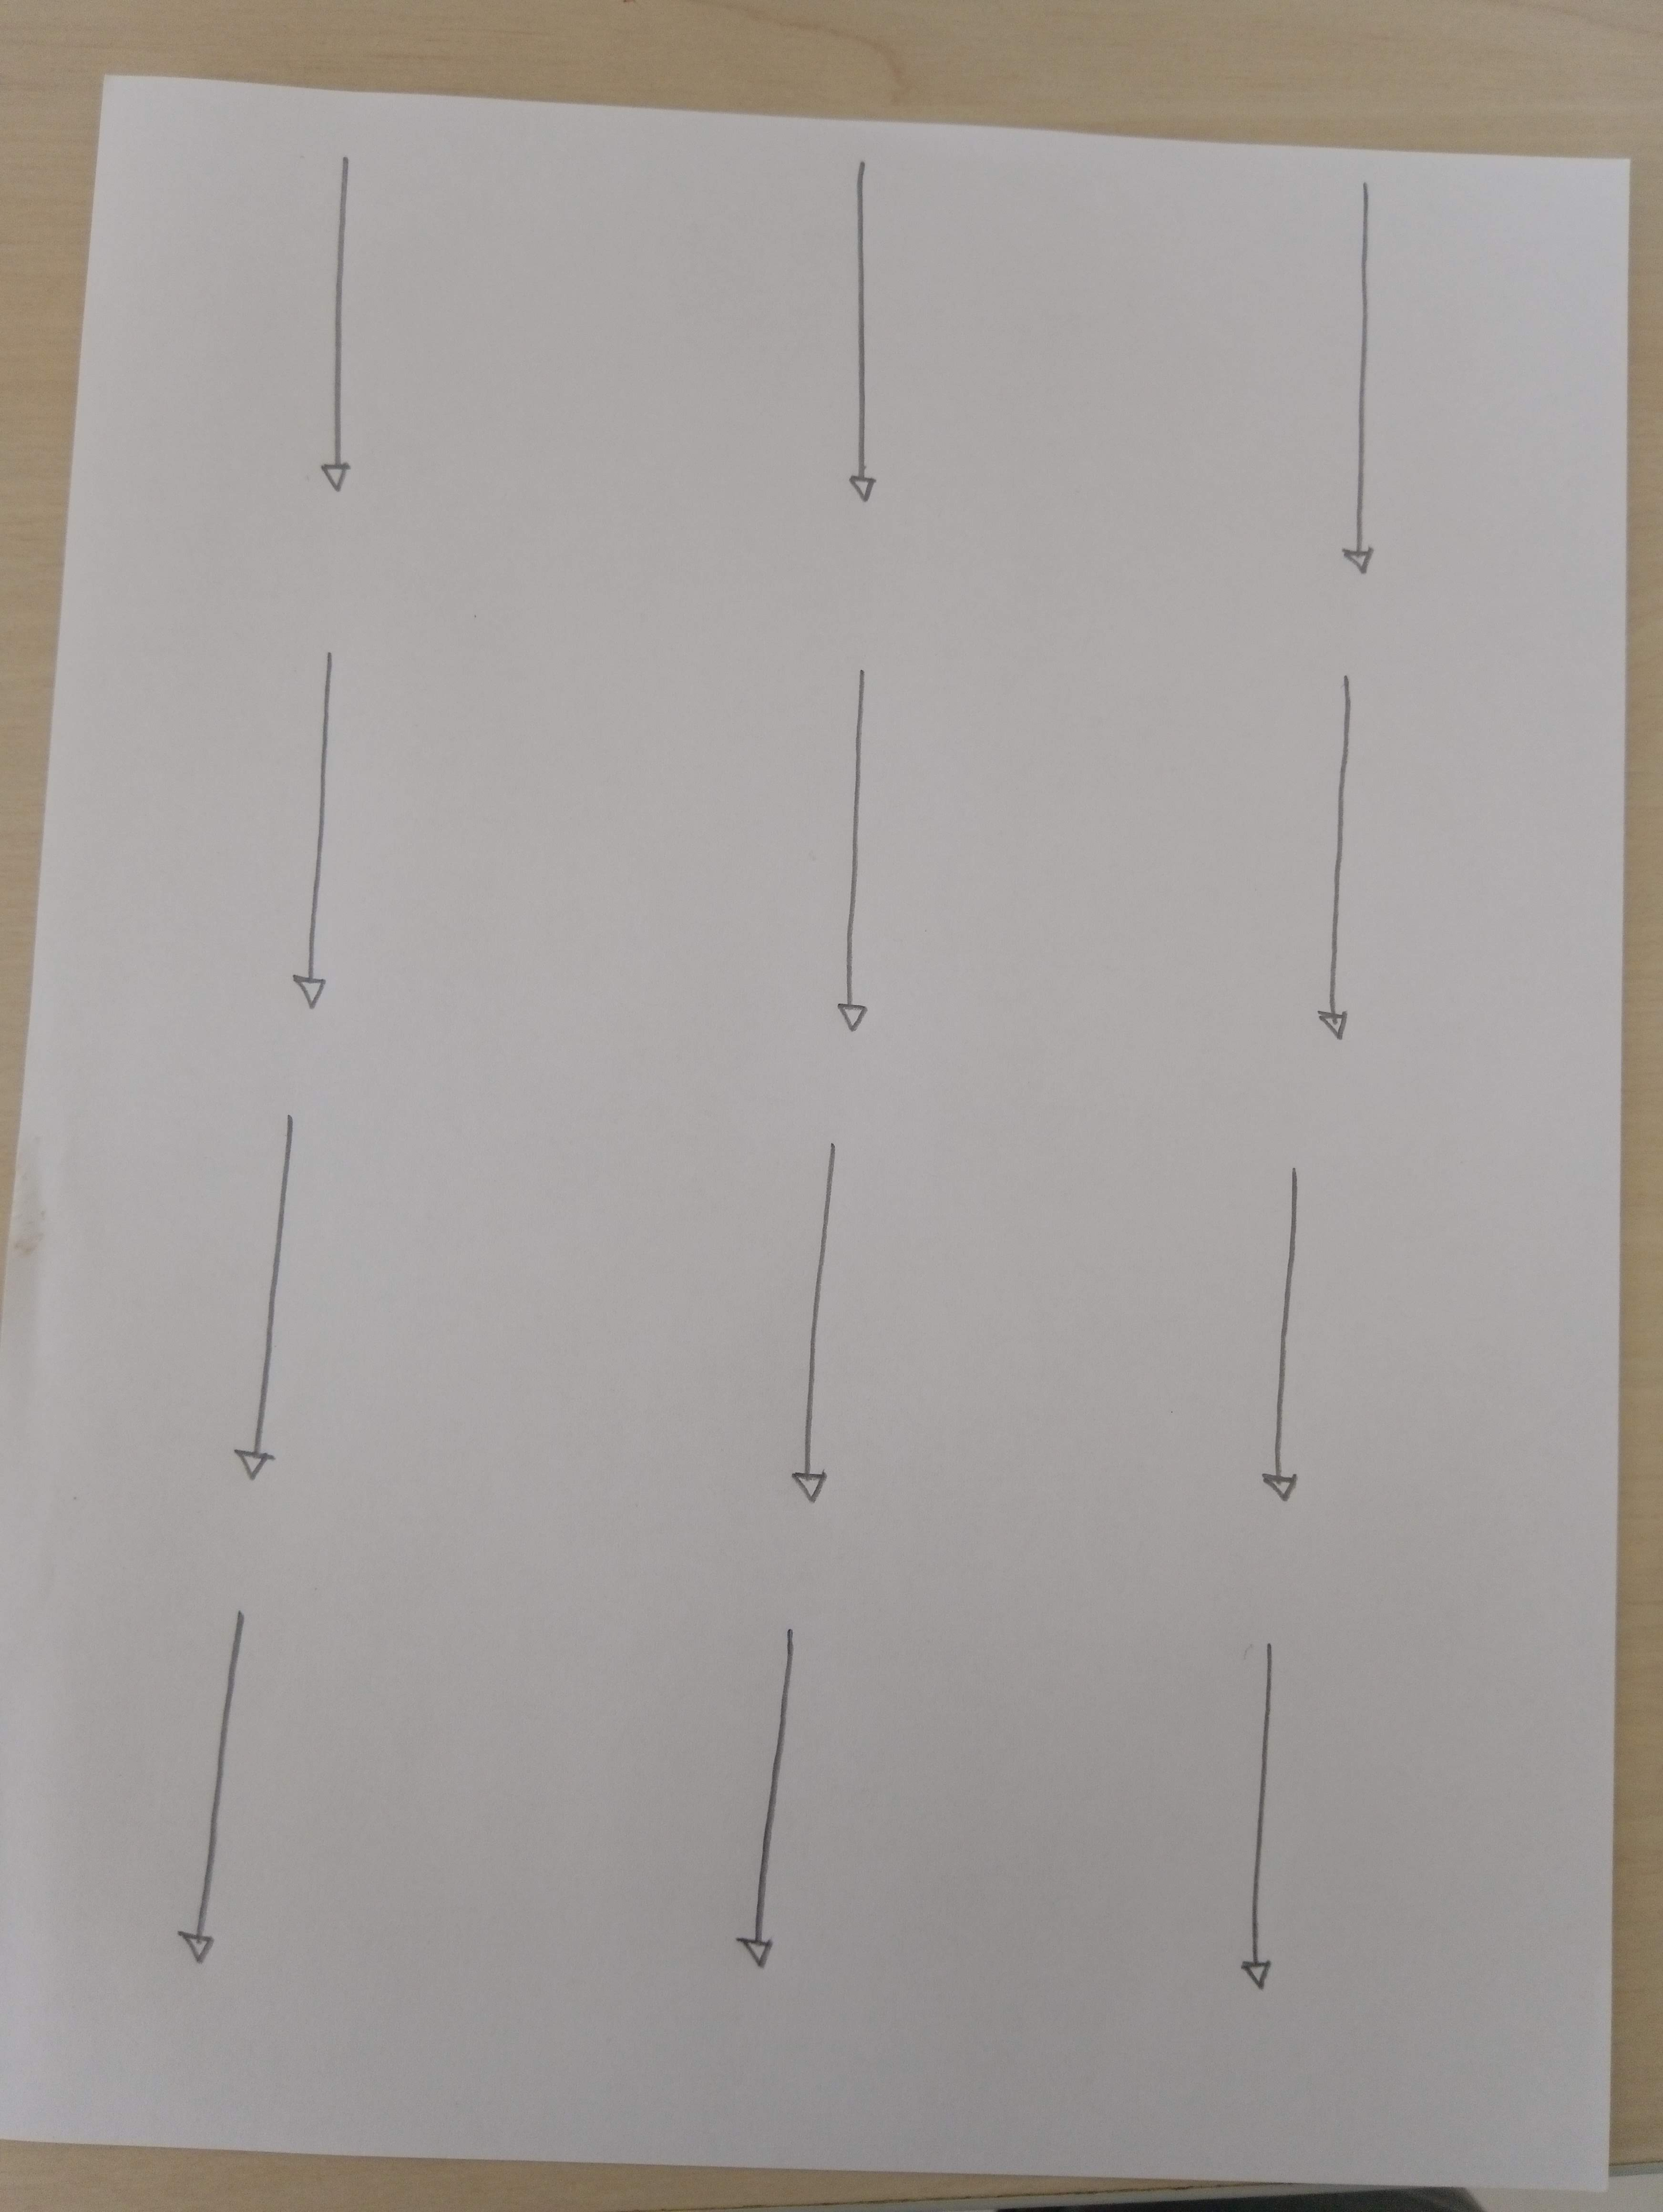arrow_line_down: (807, 662, 917, 1044), (260, 655, 376, 1004), (227, 1109, 320, 1521), (1296, 669, 1390, 1068), (162, 1578, 253, 1971), (1324, 189, 1413, 588), (730, 1615, 826, 1982), (814, 155, 903, 505), (293, 164, 383, 512), (1233, 1641, 1314, 2011), (1237, 1171, 1321, 1501), (790, 1151, 851, 1505)
